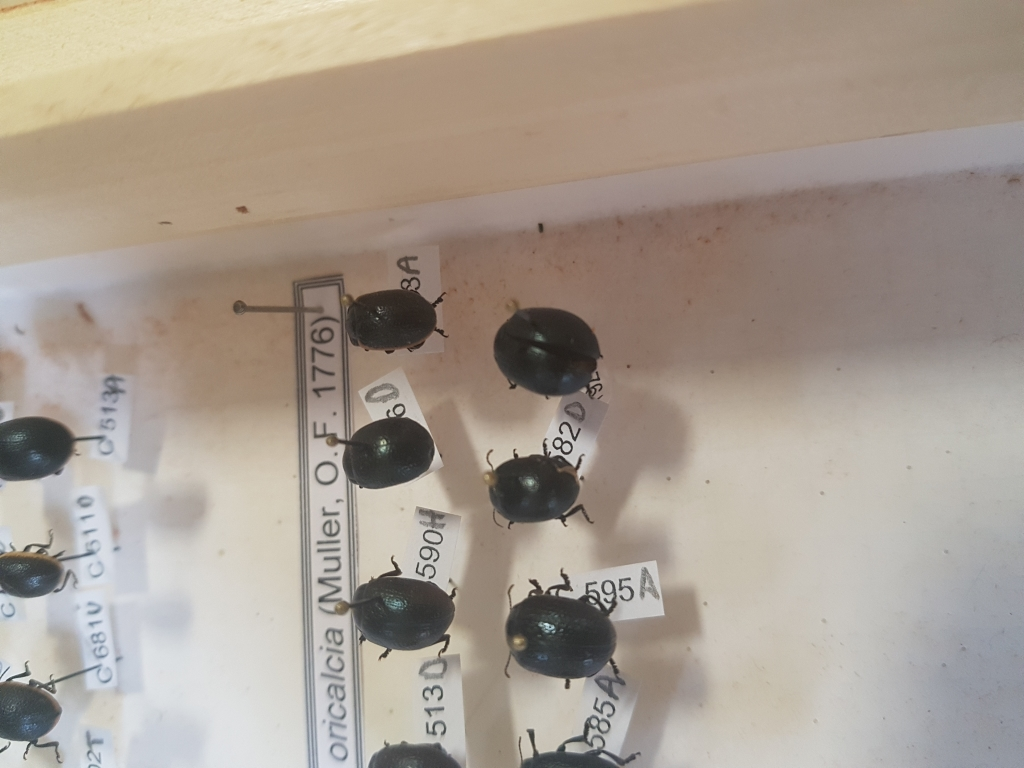Chrysolina_oricalcia: (493, 566, 632, 690), (477, 437, 603, 534), (488, 302, 604, 405), (347, 555, 458, 660), (338, 287, 454, 355), (339, 412, 436, 492)
